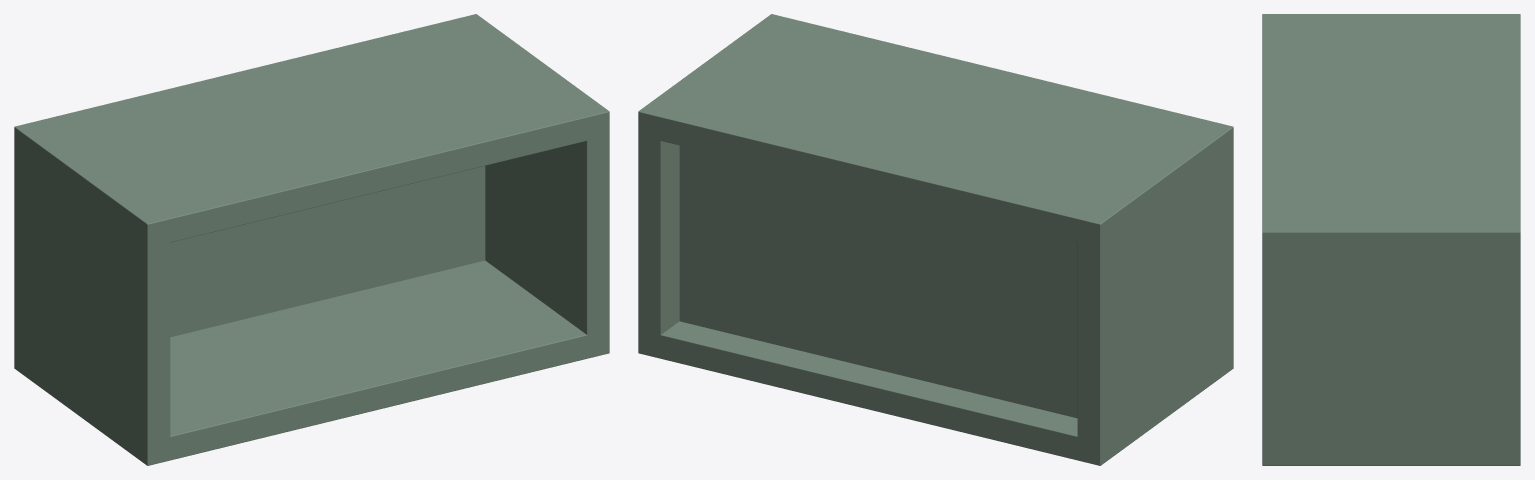
Rendered from MODH_1X05_A_B_VA.glb.
3 renders of one model, left to right at view 1: azimuth 30°, elevation 25°; view 2: azimuth 150°, elevation 25°; view 3: azimuth 270°, elevation 25°, orthographic. The views are drawn at different scales.
Size of the model in its own units: 360 by 180 by 180.
